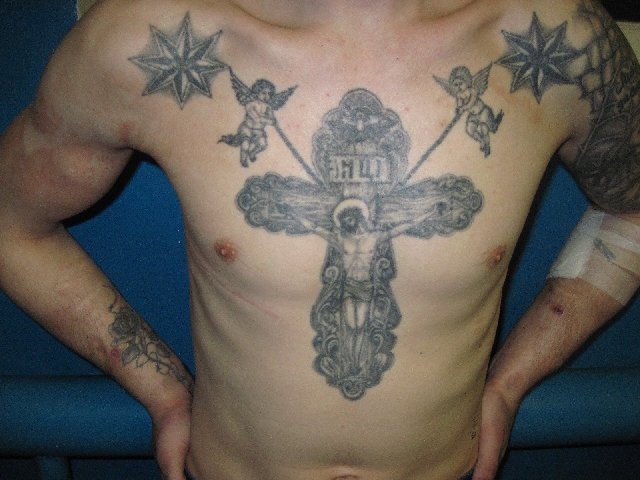tatu1_angel: (424, 56, 510, 155), (223, 60, 298, 167)
tatu4_zvezda: (126, 2, 229, 104), (484, 7, 582, 99)
tatu9_krest: (229, 96, 487, 408)
